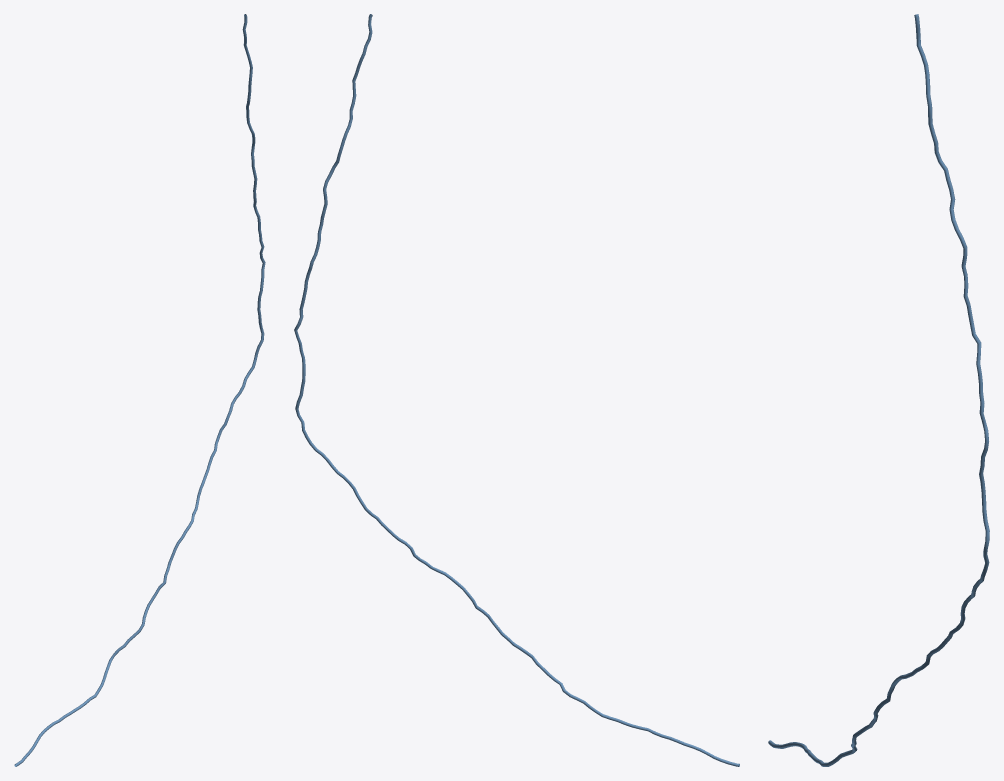
The model's file is sweep126.fbx.
The picture shows the model from 3 angles, left to right: view 1: azimuth 30°, elevation 25°; view 2: azimuth 150°, elevation 25°; view 3: azimuth 270°, elevation 25°; orthographic projection. The views are drawn at different scales.
Parts seen in each view (by area): view 1: sweep126; view 2: sweep126; view 3: sweep126.
Part boxes in pixels (box(x1,y1,x2,y2)): sweep126: box(14, 14, 265, 766); sweep126: box(294, 14, 739, 766); sweep126: box(768, 14, 989, 766).
Bounding box in the file's own units: 2.48 × 4.71 × 1.02.
